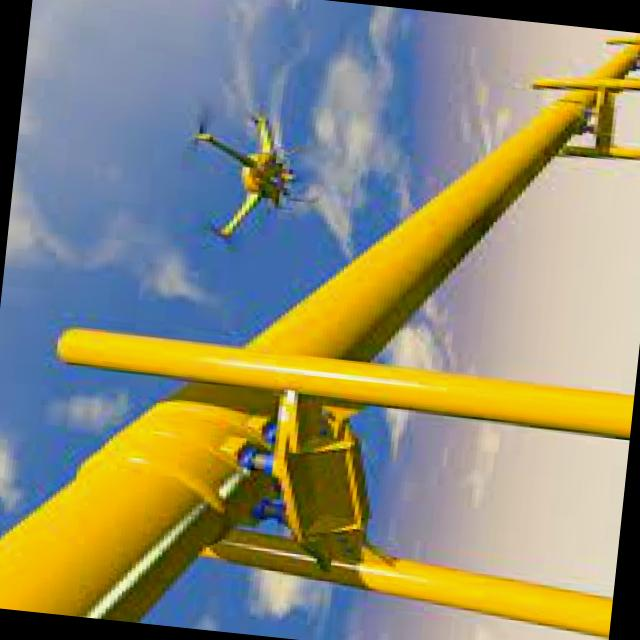gas: (0, 32, 640, 622)
